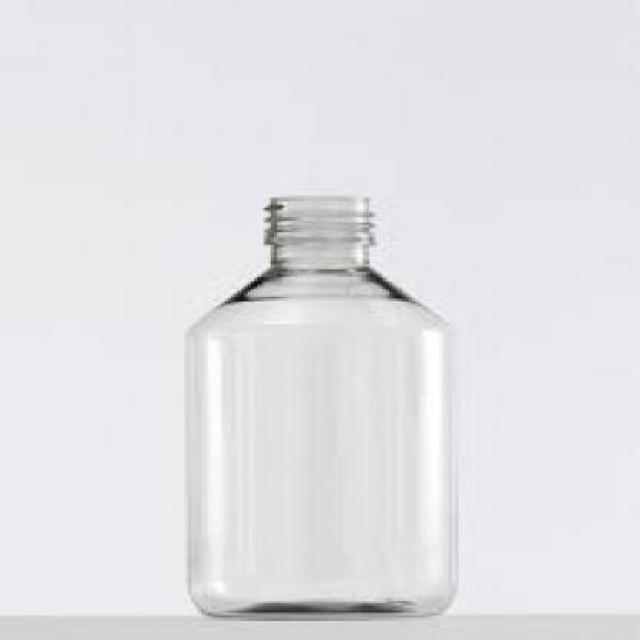kaca: (185, 195, 452, 612)
